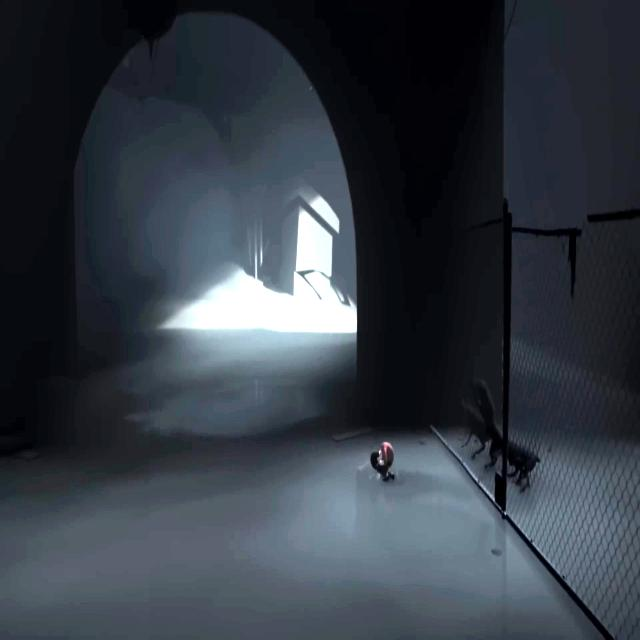boy: (370, 440, 395, 484)
dog: (475, 376, 502, 470), (506, 436, 540, 494), (459, 400, 487, 459)
